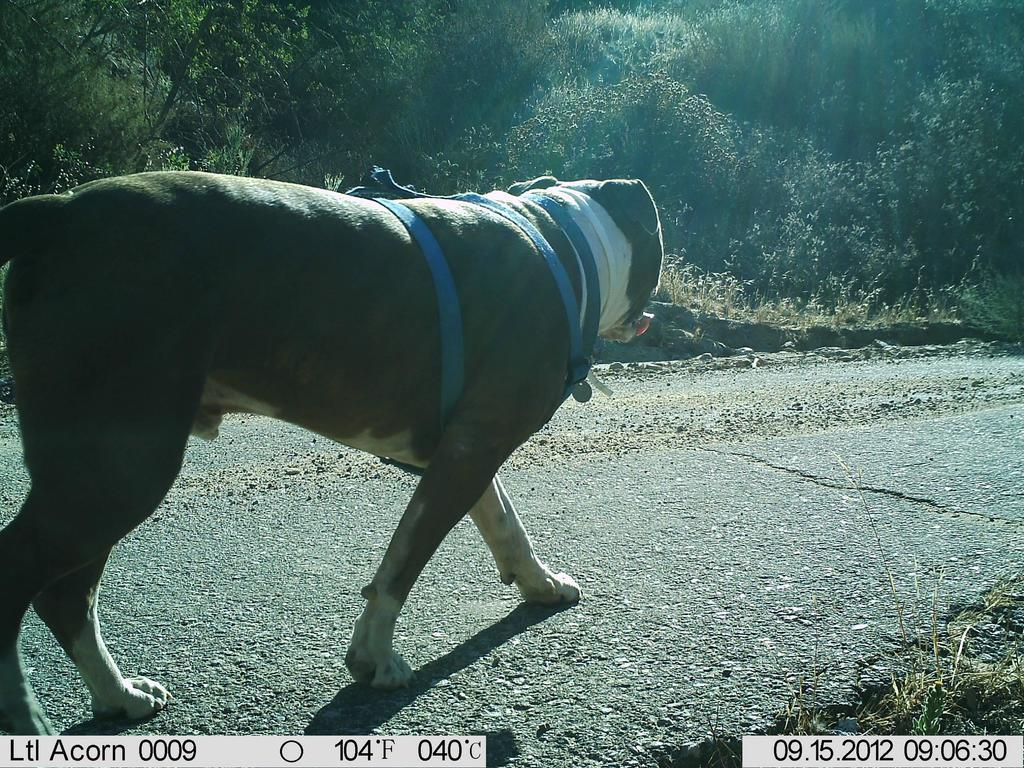dog: (1, 148, 690, 732)
